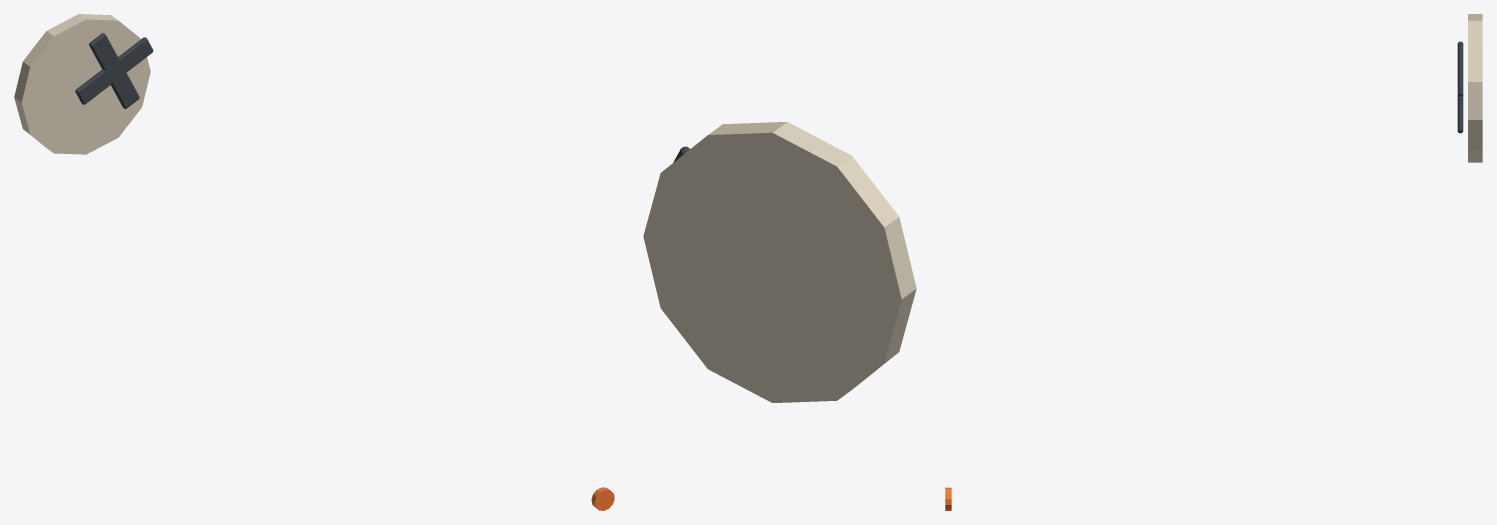
Rendered from LP_VentFan.fbx.
3 renders of one model, left to right at view 1: azimuth 30°, elevation 25°; view 2: azimuth 150°, elevation 25°; view 3: azimuth 270°, elevation 25°, orthographic. The views are drawn at different scales.
Visible parts, largest first — view 1: VentFan_Housing, VentFan_Blade, VentFan_Blade.001, VentFan_Blade.002, VentFan_Blade.003; view 2: VentFan_Housing; view 3: VentFan_Housing.
Part boxes in pixels (x1=…): VentFan_Housing: x1=14, y1=14, x2=150, y2=154; VentFan_Blade: x1=75, y1=37, x2=153, y2=104; VentFan_Blade.001: x1=89, y1=33, x2=139, y2=108; VentFan_Blade.002: x1=75, y1=38, x2=152, y2=104; VentFan_Blade.003: x1=90, y1=33, x2=139, y2=108; VentFan_Housing: x1=643, y1=122, x2=916, y2=402; VentFan_Housing: x1=1468, y1=14, x2=1482, y2=162.
Bounding box in the file's own units: 463 × 483 × 648.
